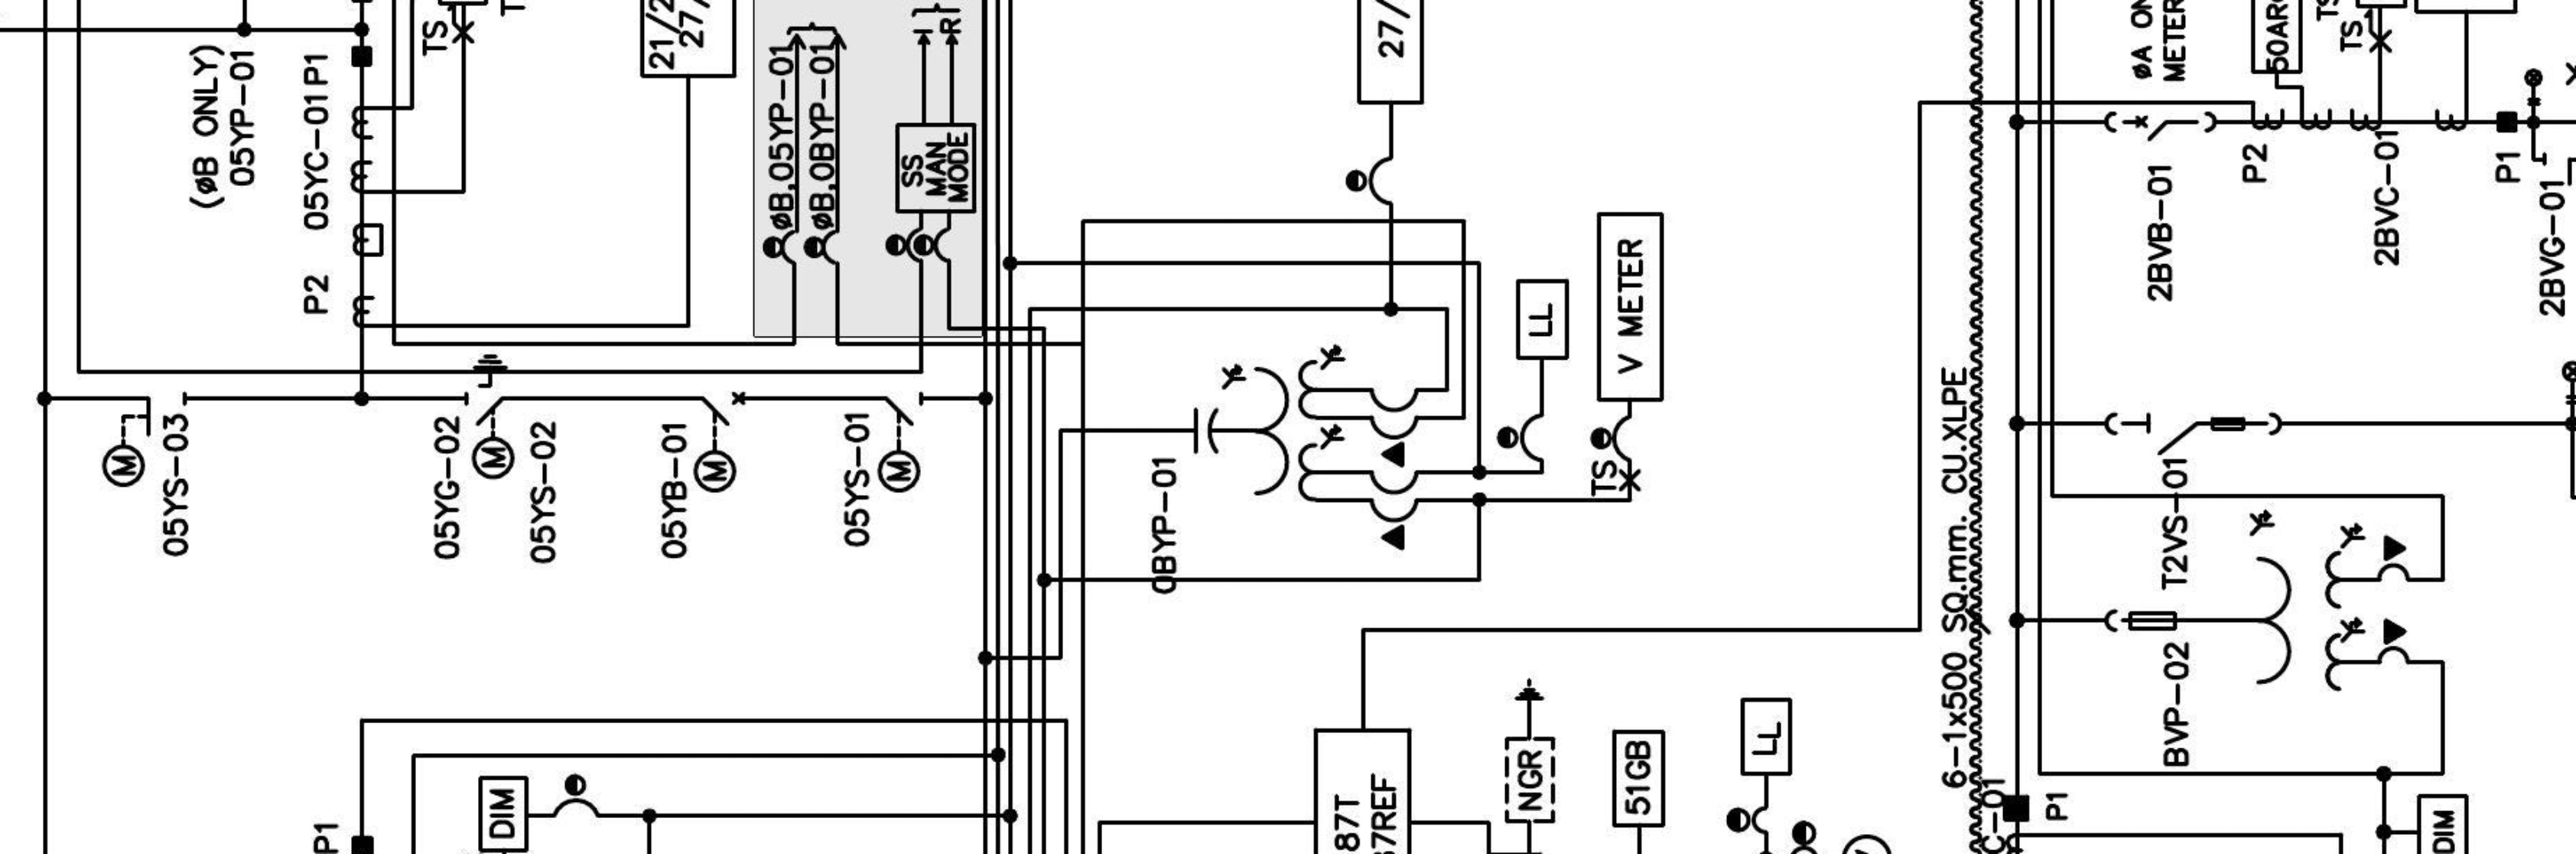115_1way_ds_w_motor: (101, 391, 187, 488), (877, 391, 925, 494)
115_3ways_ds_w_motor: (464, 354, 517, 481)
115_breaker: (701, 391, 746, 427)
115_cvt_3p: (1192, 343, 1421, 552)
22_breaker: (2103, 110, 2217, 142)
22_ds: (2104, 411, 2282, 456)
22_ll: (2524, 67, 2544, 107)
22_vt_3p: (2104, 509, 2412, 693)
LL: (1514, 278, 1571, 361), (1740, 697, 1792, 777)
NGR_future: (1504, 677, 1556, 825)
ss_man_mode: (895, 123, 977, 214)
v_m_digital: (1595, 211, 1665, 403)
